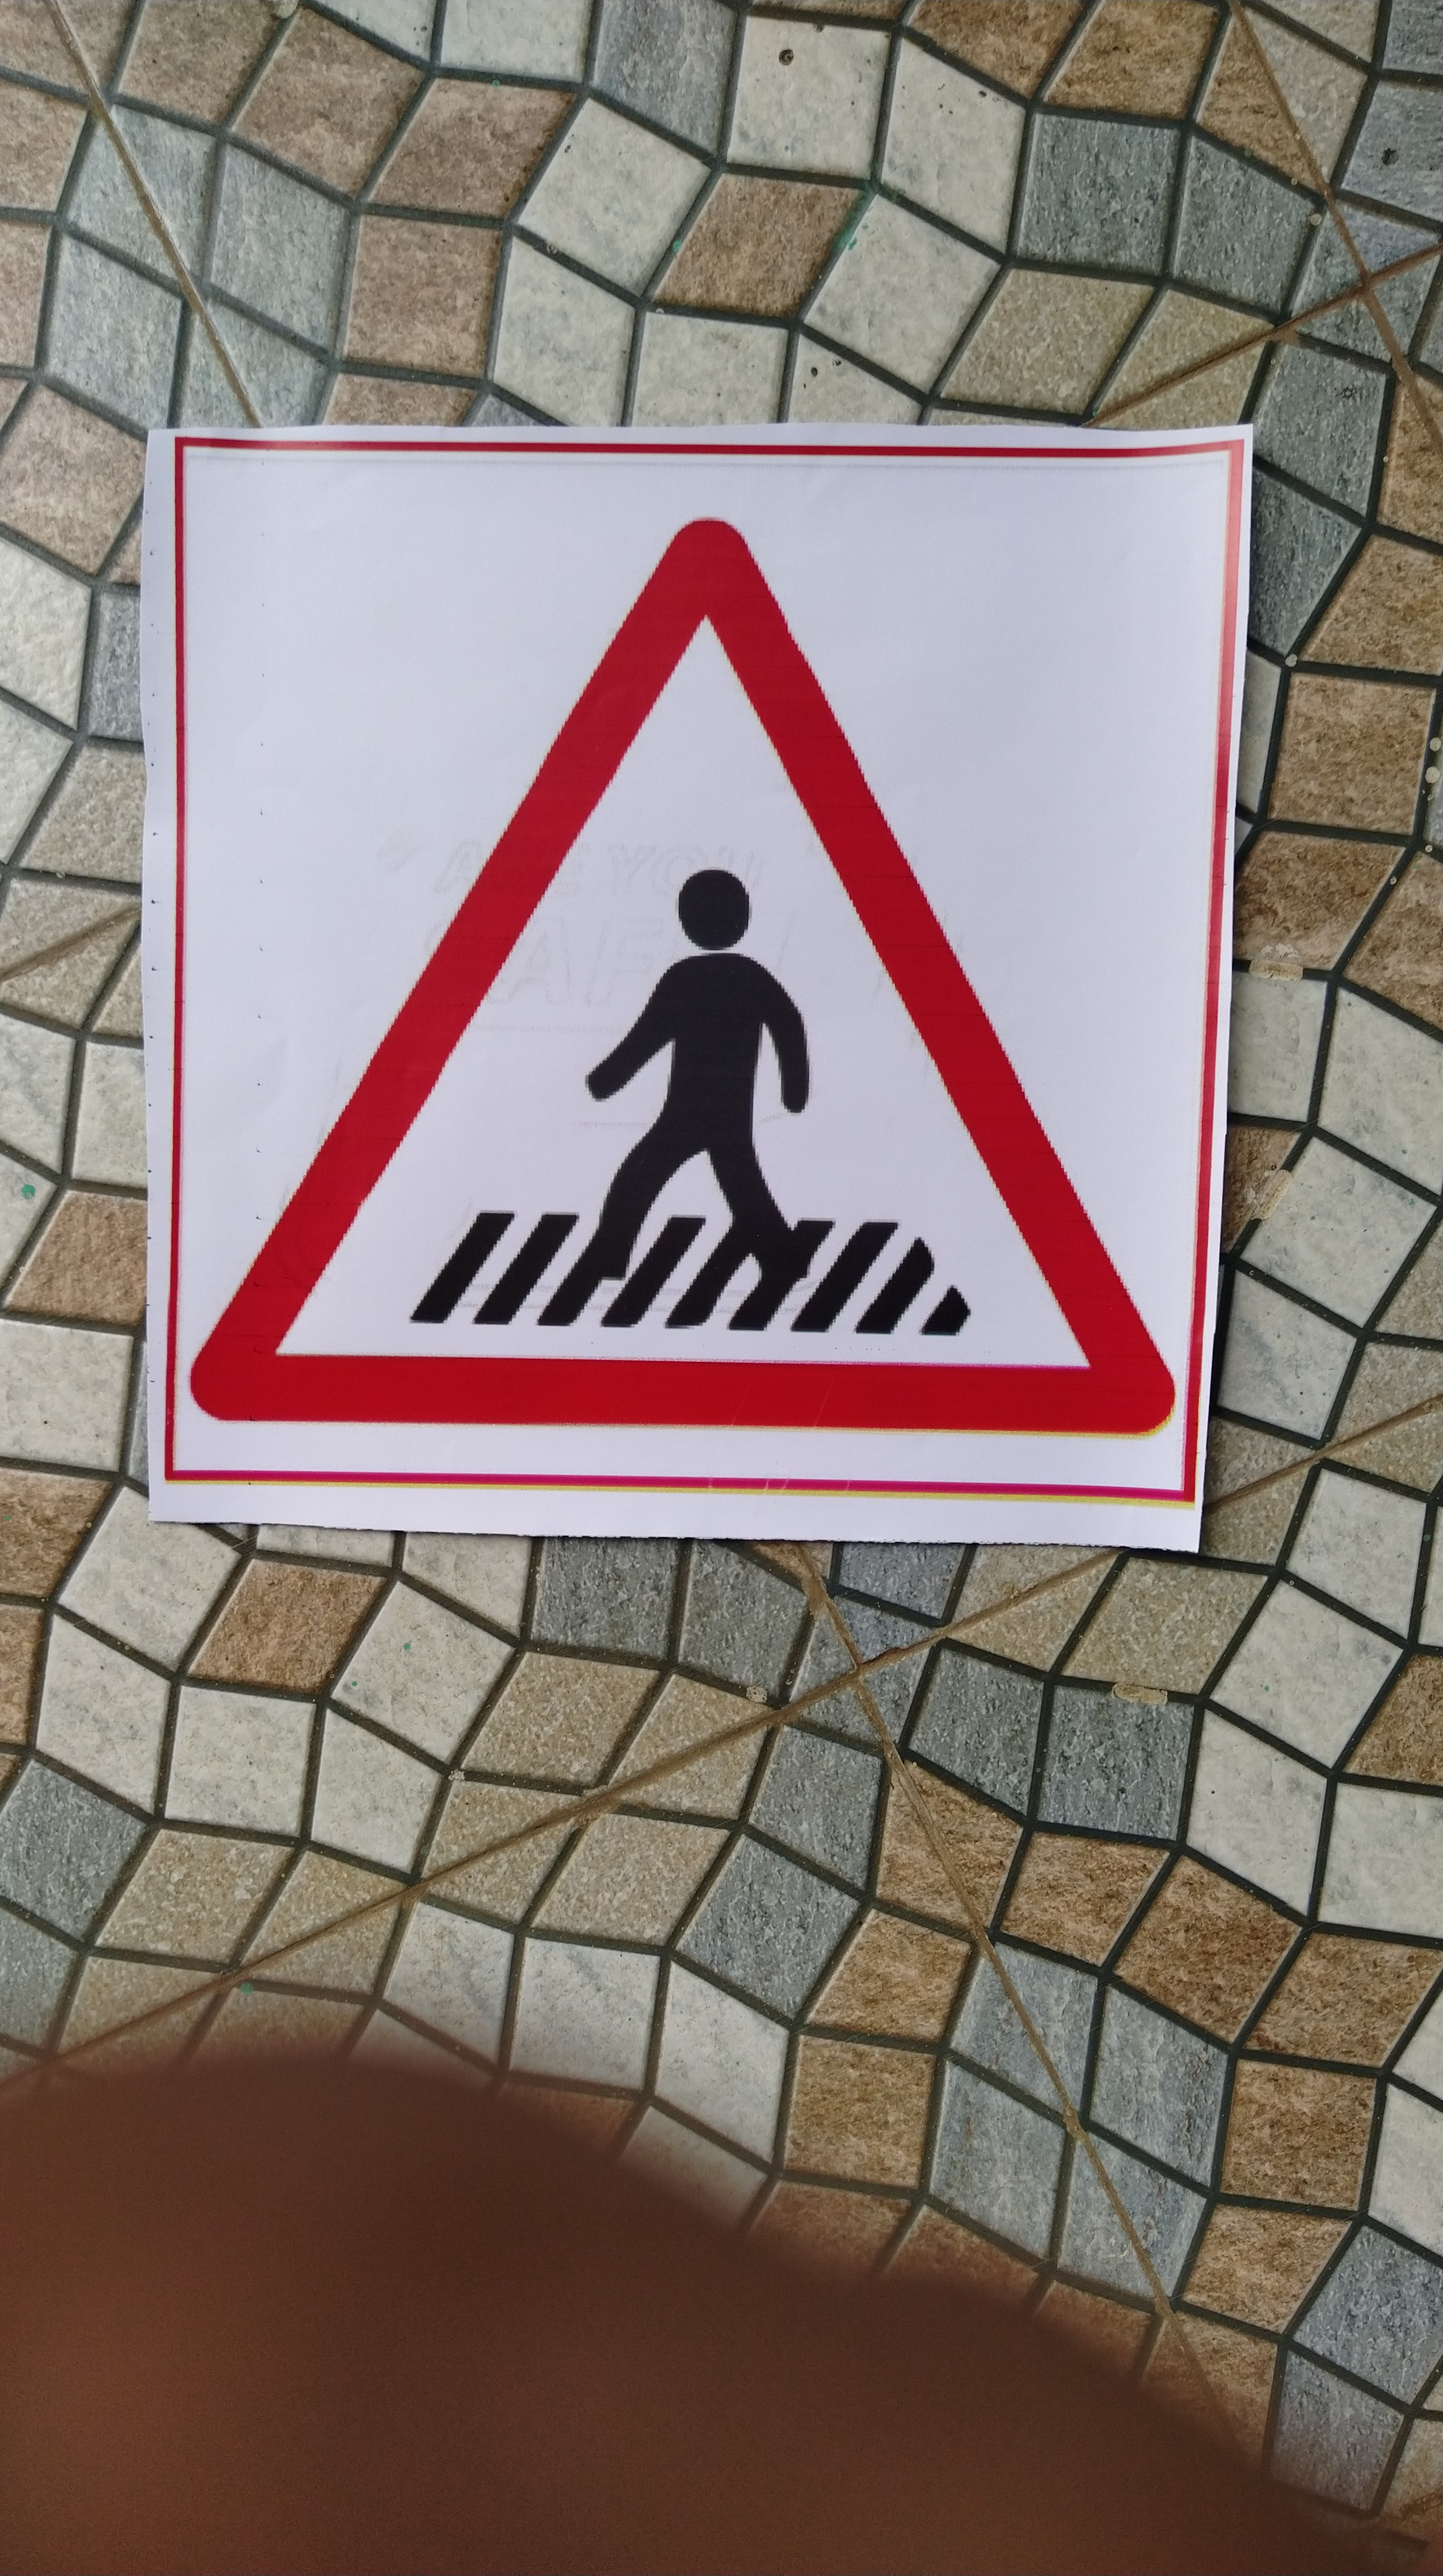pedestrain crossing: (170, 448, 1176, 1518)
